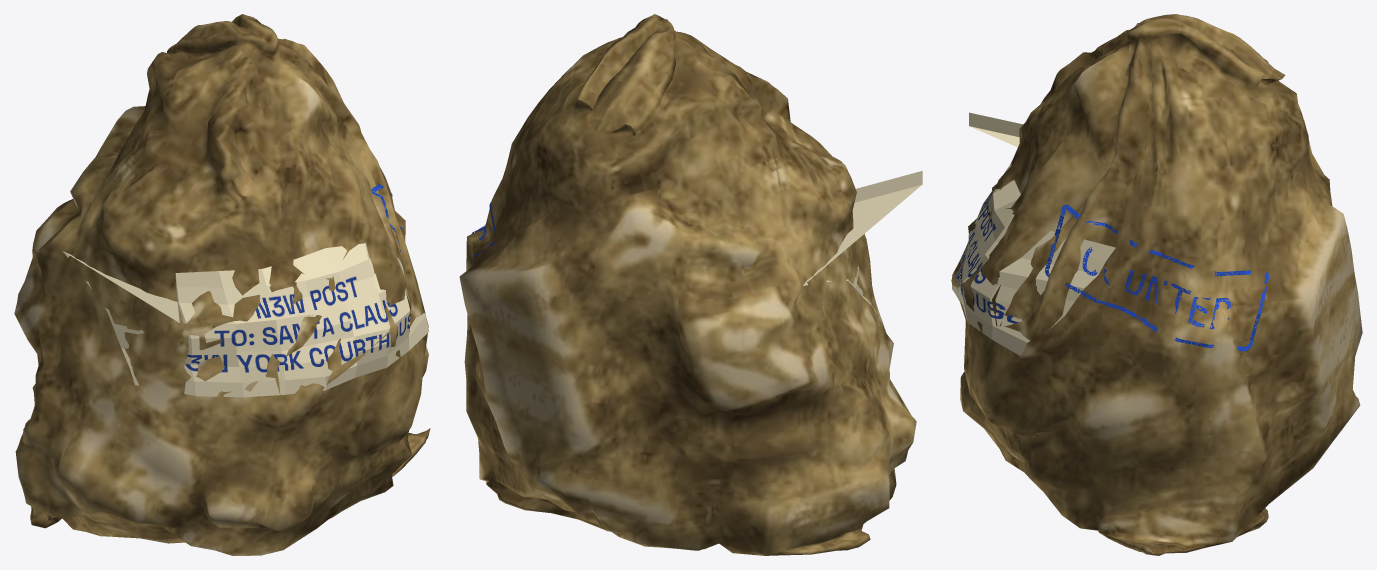
File: nyb_miracle_sack.glb
The picture shows the model from 3 angles, left to right: view 1: azimuth 30°, elevation 25°; view 2: azimuth 150°, elevation 25°; view 3: azimuth 270°, elevation 25°; orthographic projection. The views are drawn at different scales.
Parts seen in each view (by area): view 1: trashbag, stk_lbl_826c987044.png; view 2: trashbag, stk_lbl_826c987044.png; view 3: trashbag, stk_lbl_826c987044.png, stk_counted_blue.png.
Boxes of the visible parts, box(x1,y1,x2,y2) form: trashbag: box(14, 14, 430, 555); stk_lbl_826c987044.png: box(63, 242, 429, 397); trashbag: box(459, 14, 916, 555); stk_lbl_826c987044.png: box(803, 171, 922, 313); trashbag: box(951, 14, 1362, 555); stk_lbl_826c987044.png: box(952, 112, 1115, 355); stk_counted_blue.png: box(1045, 204, 1268, 351).
Bounding box in the file's own units: 0.5281 × 0.575 × 0.4629.
Materials: 3 (3 with a texture image).
